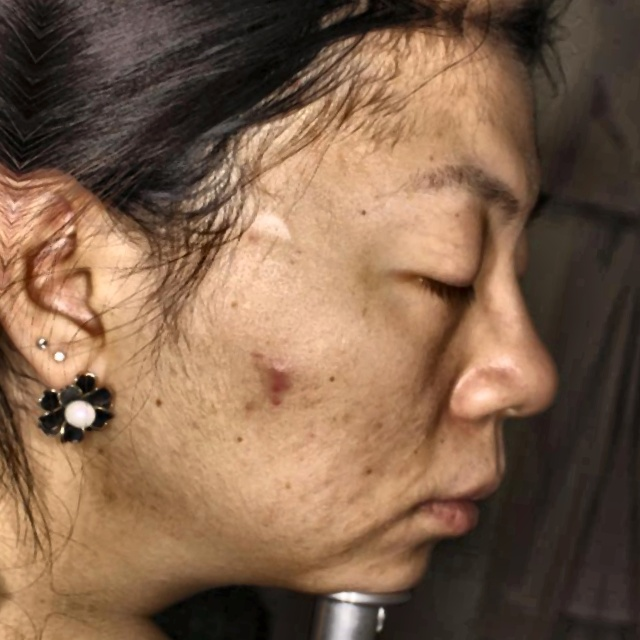comedone: (259, 357, 304, 403)
